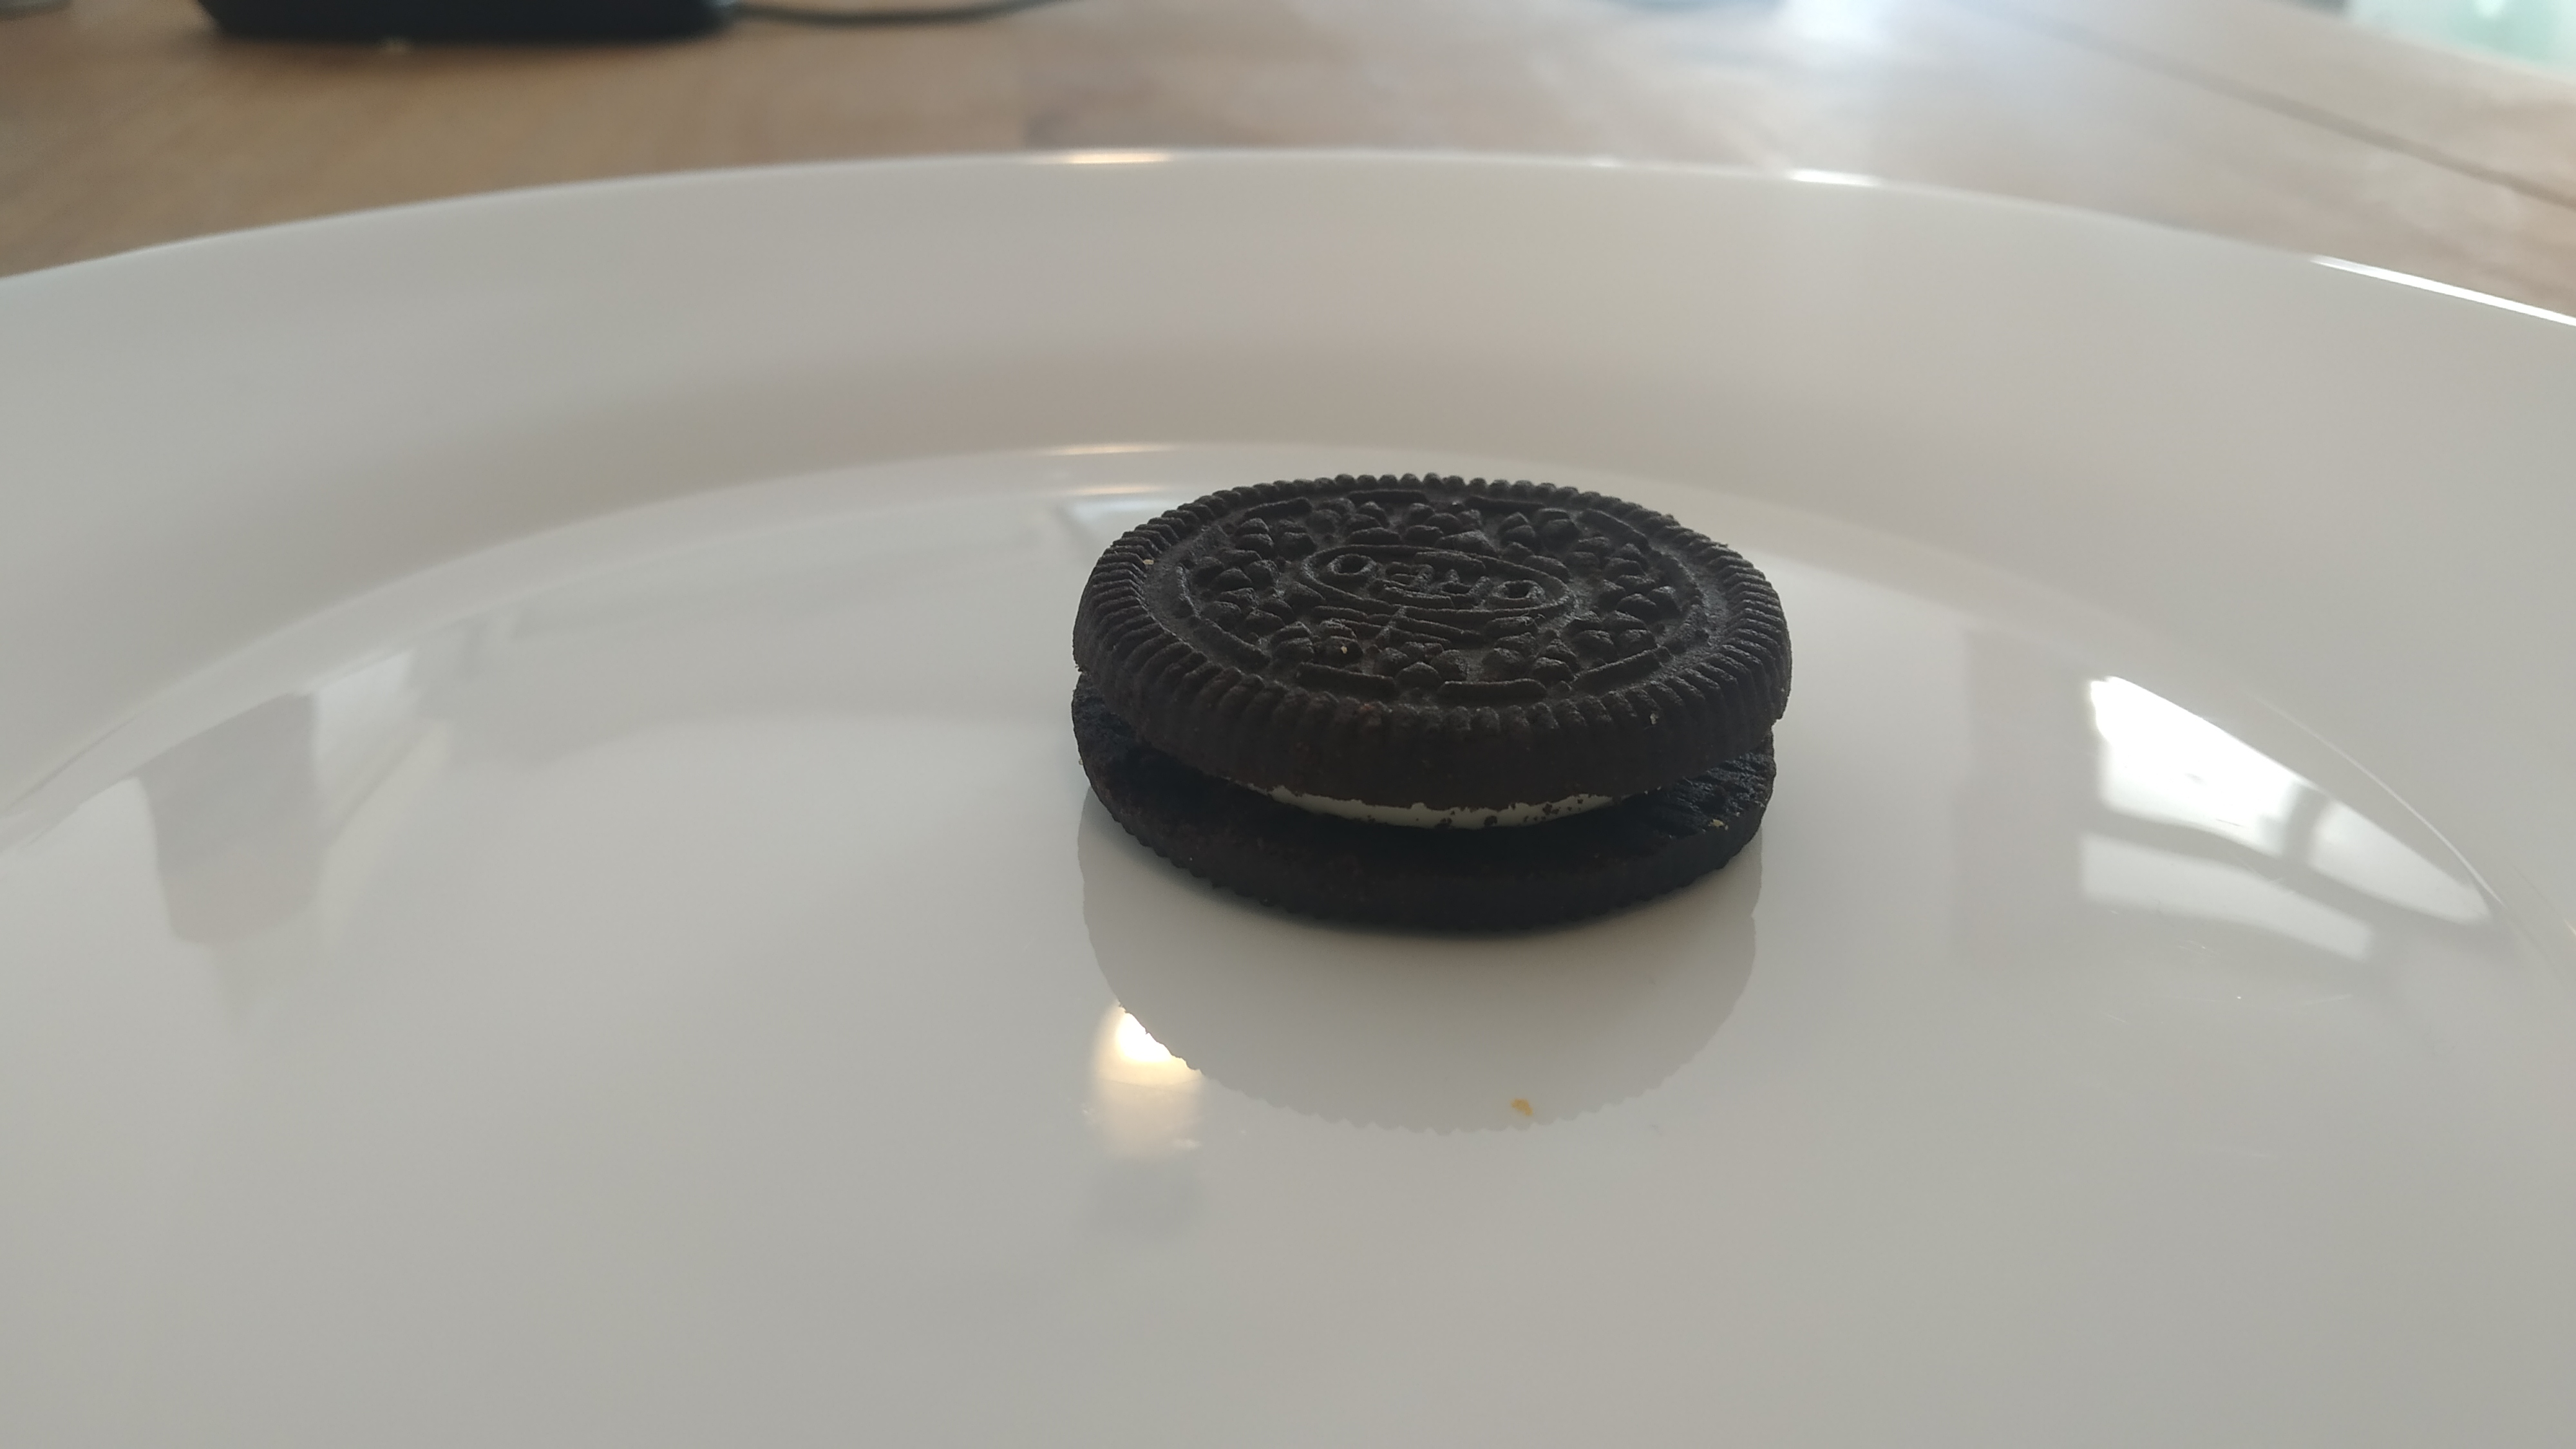oreo: (1069, 471, 1794, 932)
